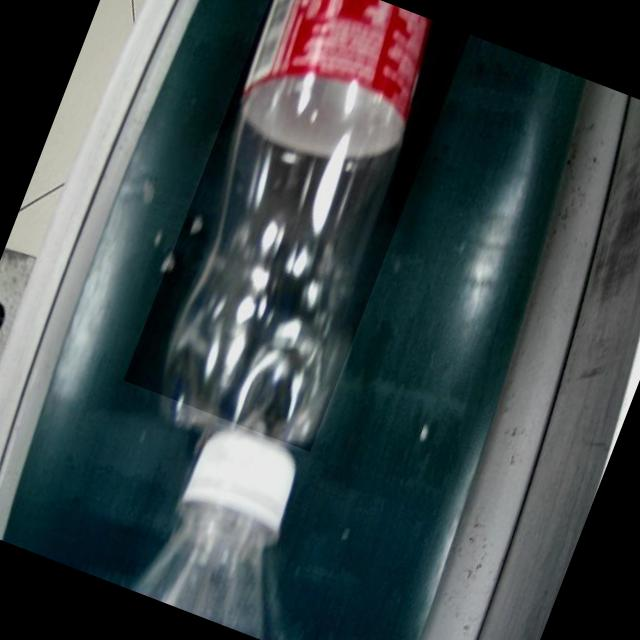BotolPlastik: (135, 0, 461, 466), (113, 402, 346, 640)
